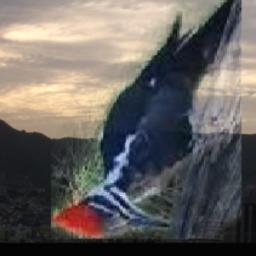Woodpecker: (52, 0, 243, 239)
